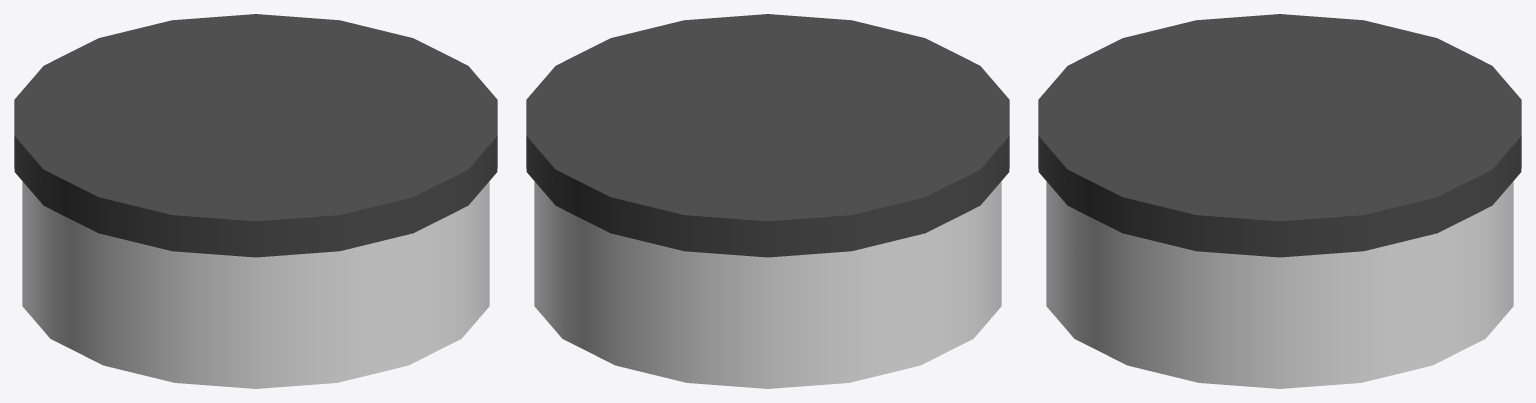
The model's file is RoundBox_c_01.fbx.
The picture shows the model from 3 angles, left to right: view 1: azimuth 30°, elevation 25°; view 2: azimuth 150°, elevation 25°; view 3: azimuth 270°, elevation 25°; orthographic projection.
Visible parts, largest first — view 1: RoundBox_c_01; view 2: RoundBox_c_01; view 3: RoundBox_c_01.
Boxes of the visible parts, x1,y1,x2,y2 form: RoundBox_c_01: [14, 14, 497, 388]; RoundBox_c_01: [526, 14, 1009, 388]; RoundBox_c_01: [1038, 14, 1521, 388].
Size of the model in its own units: 7.75 by 2.98 by 7.63.
